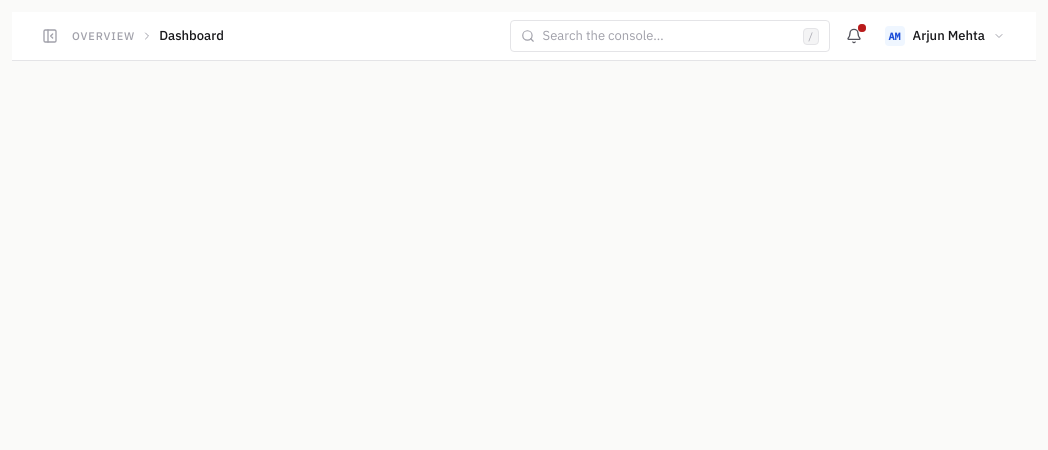
Scenario: Topbar › opens the notification panel listing recent alerts with mark-read
Click the button named "Notifications (4 unread)": [854, 36] box 838,20 -> 870,52
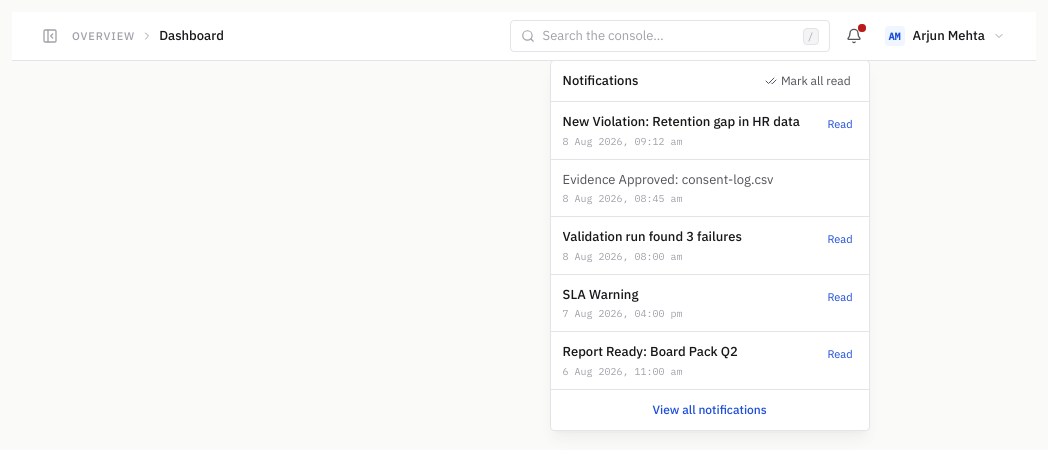
Check: the text "New Violation: Retention gap in HR data" is shown, box 563,112 -> 815,132
Check: the text "Validation run found 3 failures" is shown, box 563,228 -> 742,245
